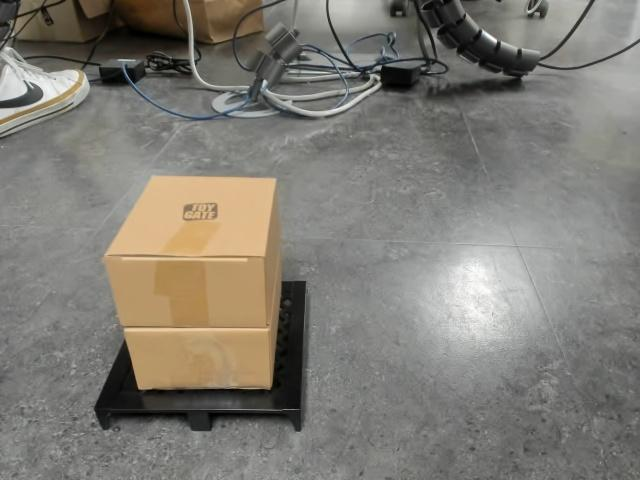box: (93, 175, 313, 433)
